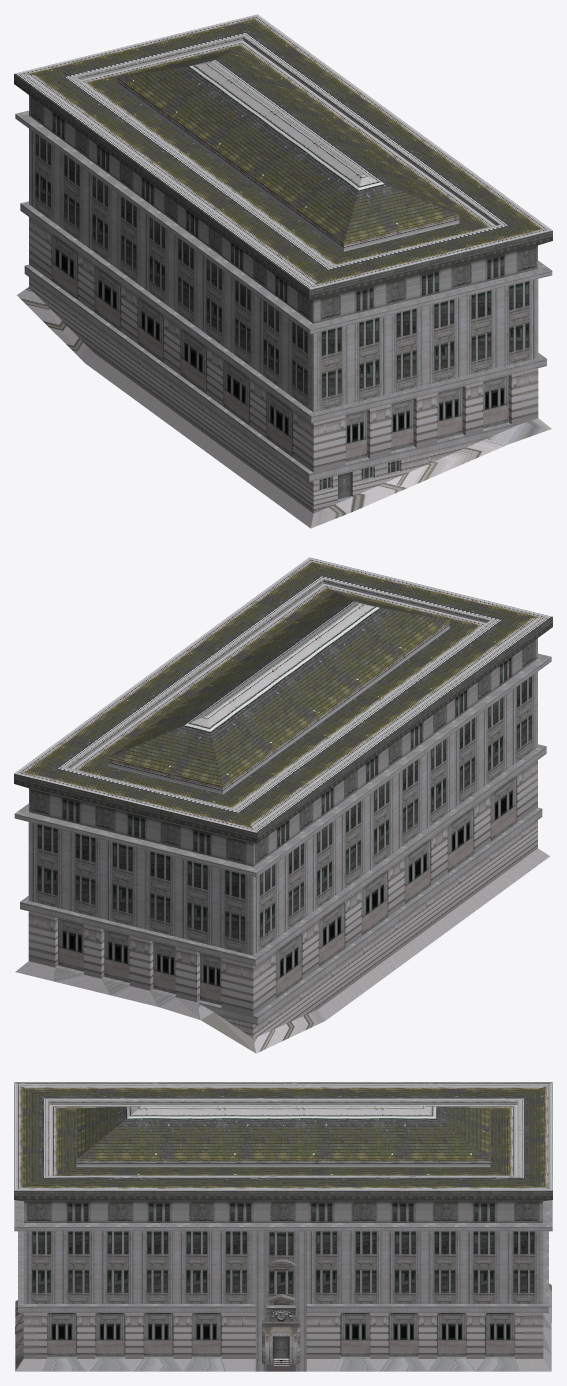
Rendered from posh_thingsfe.obj.
3 renders of one model, top to bottom at view 1: azimuth 30°, elevation 25°; view 2: azimuth 150°, elevation 25°; view 3: azimuth 270°, elevation 25°, orthographic. The views are drawn at different scales.
Visible parts, largest first — view 1: Posh_thingsfe; view 2: Posh_thingsfe; view 3: Posh_thingsfe.
Part boxes in pixels (box(x1,y1,x2,y2)): Posh_thingsfe: box(14, 14, 552, 528); Posh_thingsfe: box(14, 557, 552, 1053); Posh_thingsfe: box(14, 1082, 552, 1371).
Bounding box in the file's own units: 43.28 × 44.81 × 87.79.
Materials: 14 (14 with a texture image).
